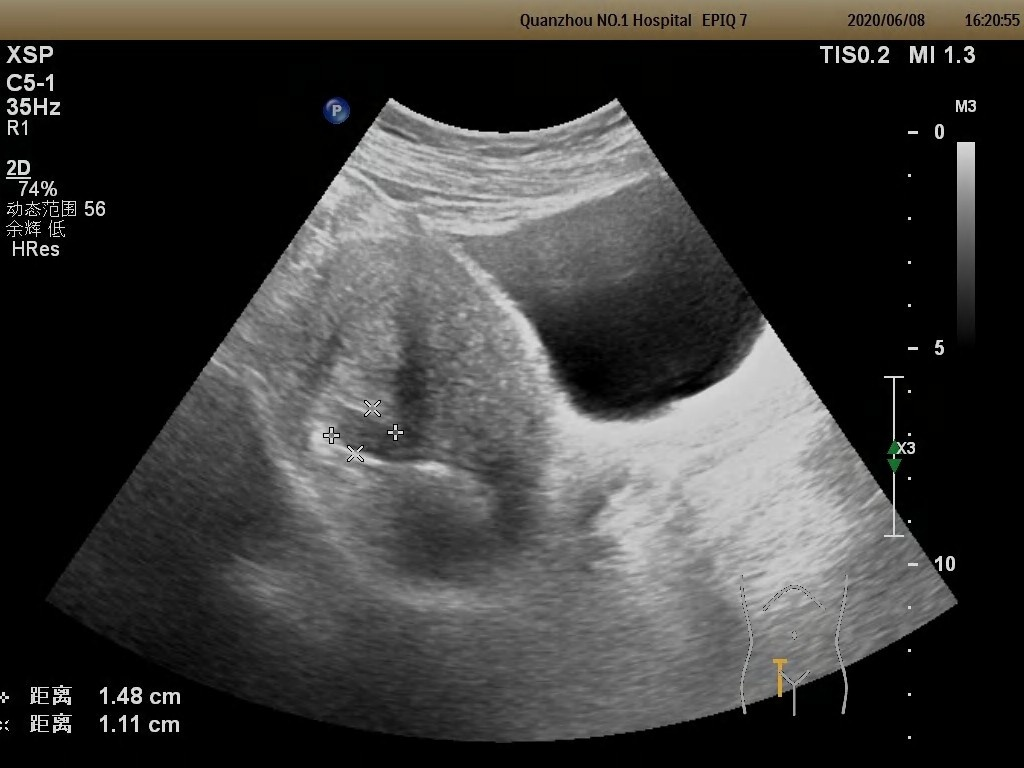肌瘤: (331, 408, 398, 457)
